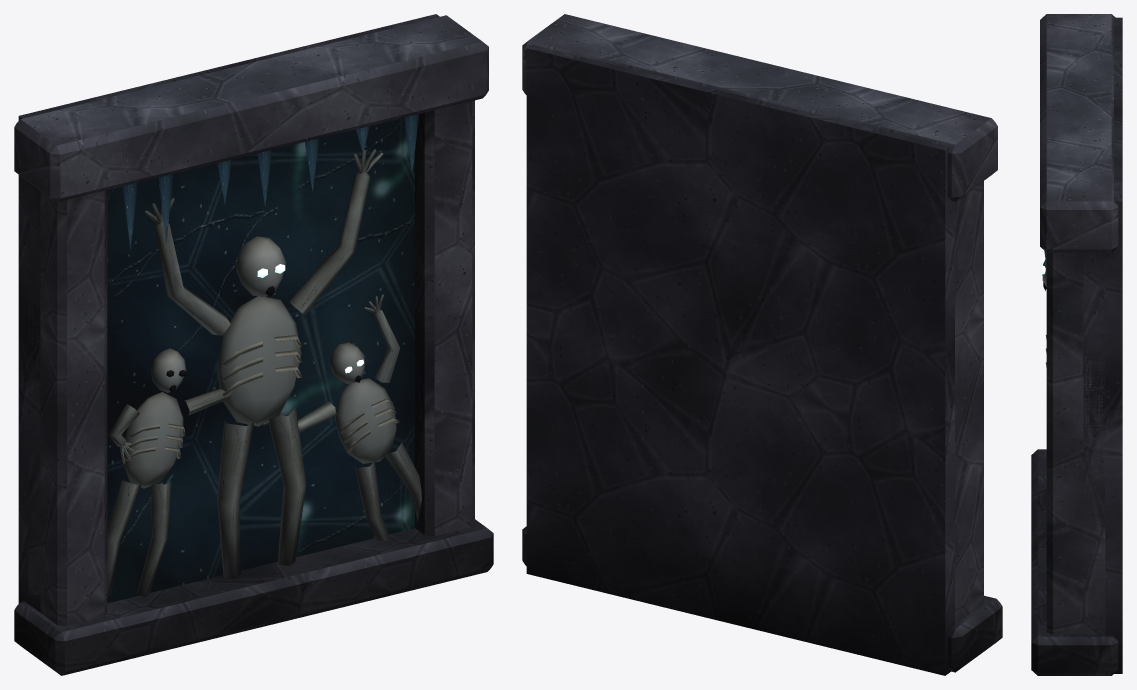
Rendered from helheim_corpse_relief.glb.
3 views of the same model, side by side, from view 1: azimuth 30°, elevation 25°; view 2: azimuth 150°, elevation 25°; view 3: azimuth 270°, elevation 25° (orthographic). The views are drawn at different scales.
Visible parts, largest first — view 1: helheim_corpse_relief; view 2: helheim_corpse_relief; view 3: helheim_corpse_relief.
Boxes of the visible parts, bbox=[...] form: helheim_corpse_relief: bbox=[14, 14, 493, 675]; helheim_corpse_relief: bbox=[522, 14, 1002, 675]; helheim_corpse_relief: bbox=[1031, 14, 1122, 675].
Size of the model in its own units: 2.1 by 2.41 by 0.42.
Materials: 5 (3 with a texture image).
